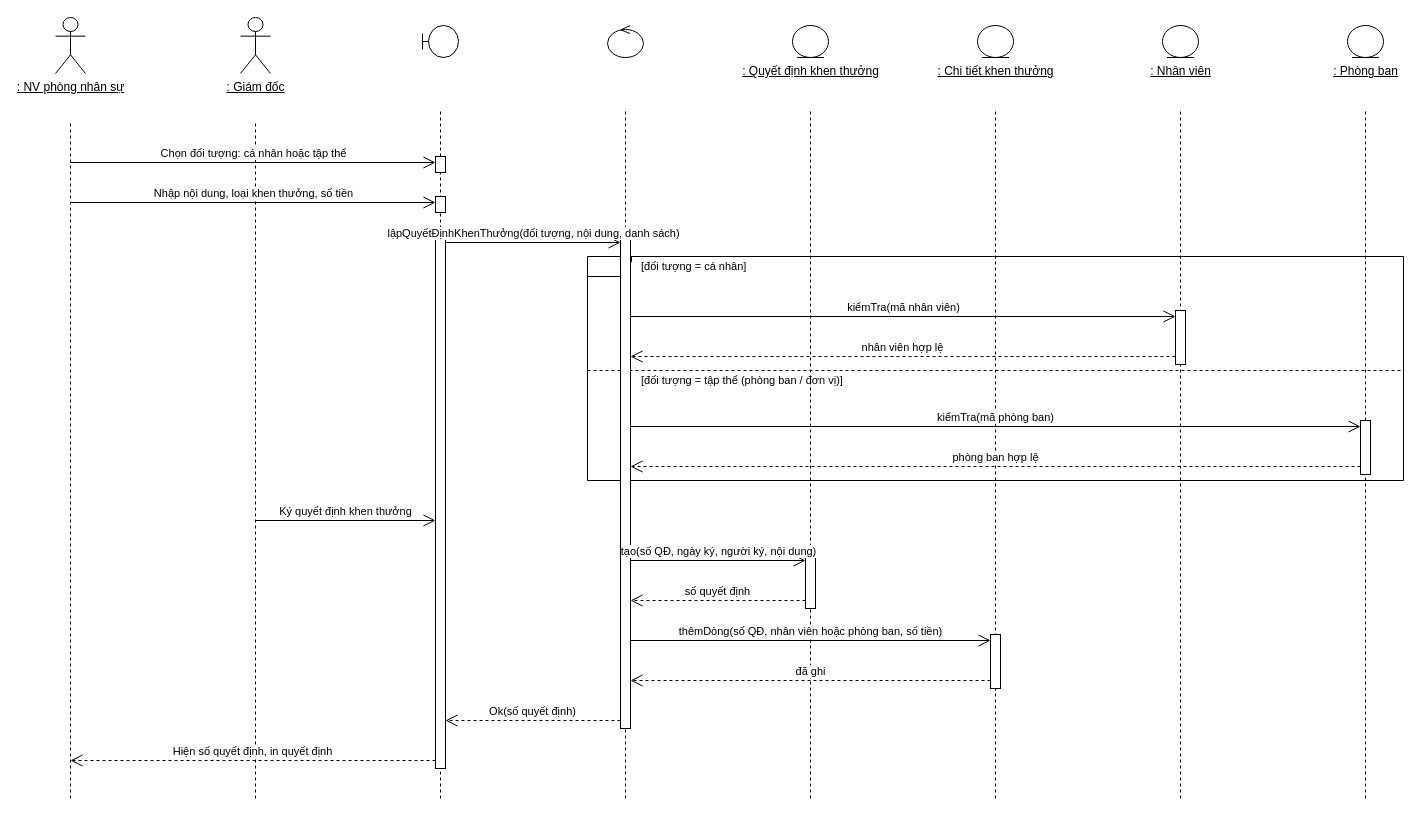
The diagram is 1422 pixels wide and 819 high, and some of its shapes have lost their labels. Each missing label, with the box of its shape:
: Màn hình khen thưởng: (422, 24, 458, 58)
: Điều khiển khen thưởng: (606, 24, 644, 58)
alt: (586, 256, 1404, 480)
